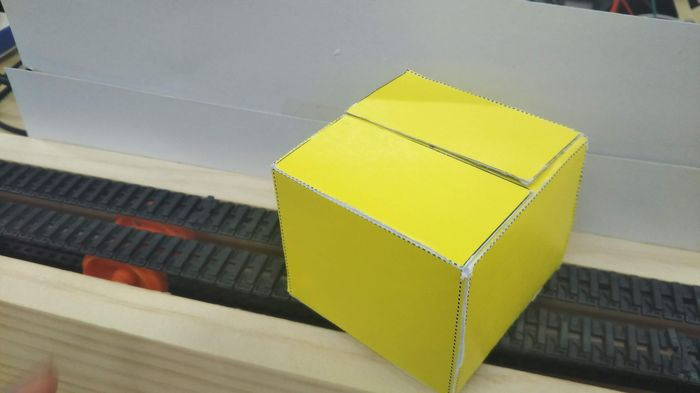box4: (269, 69, 590, 393)
